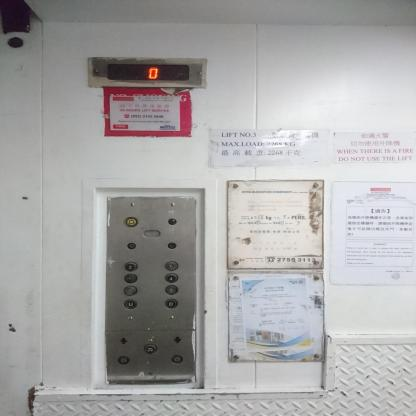0: (124, 286, 138, 296)
1: (124, 274, 137, 284)
2: (124, 262, 137, 272)
3: (164, 284, 178, 296)
4: (165, 273, 178, 283)
5: (164, 260, 179, 271)
D: (165, 297, 178, 309)
U: (123, 298, 138, 310)
alarm: (124, 216, 139, 228)
keyhole: (170, 354, 184, 365), (117, 355, 130, 365), (127, 242, 136, 250), (167, 242, 177, 249)
led: (107, 62, 190, 82)
text: (144, 344, 156, 353)
